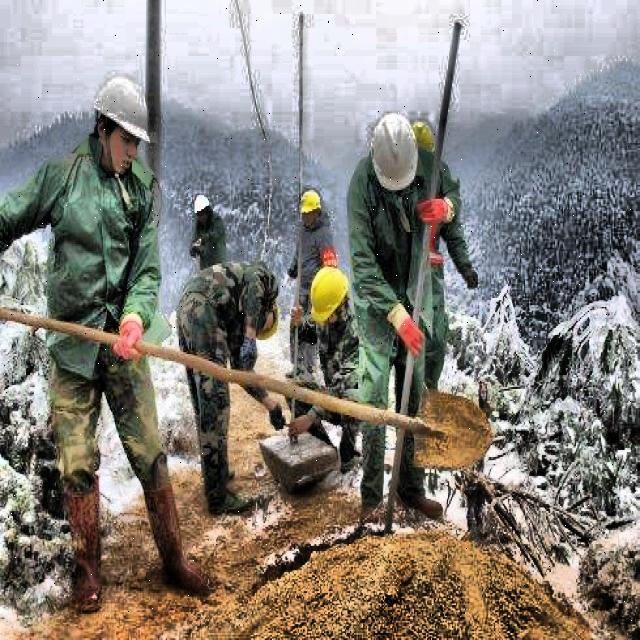helmet: (86, 65, 152, 176), (367, 108, 425, 192), (308, 262, 352, 330), (252, 291, 284, 340), (294, 186, 324, 234), (189, 190, 217, 227)
